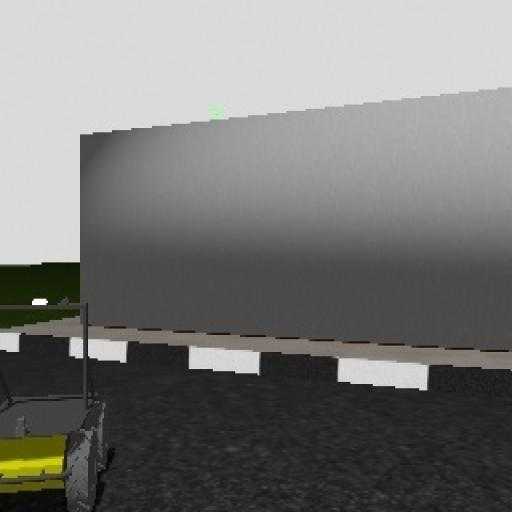huskya200: (0, 280, 104, 512)
